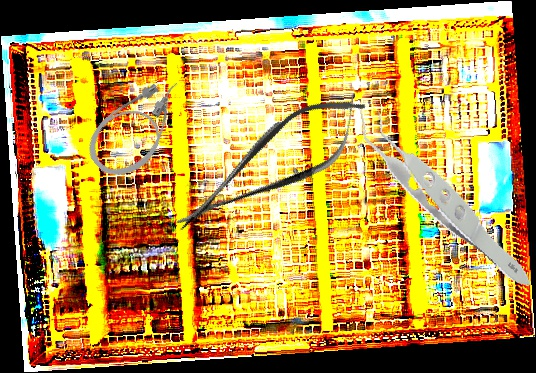Cannula: (77, 67, 203, 189)
Micro Scissor: (157, 75, 384, 253)
Tissue Forceps: (355, 70, 531, 316)
